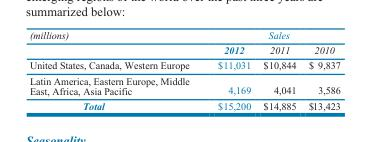table: (28, 29, 339, 111)
table column: (28, 29, 202, 111), (202, 29, 256, 111), (256, 29, 301, 111), (301, 29, 339, 111)
table column header: (28, 29, 339, 57)
table row: (28, 72, 339, 97), (28, 42, 339, 57), (28, 57, 339, 72), (28, 97, 339, 111), (28, 29, 339, 42)
table spanning cell: (28, 29, 202, 57), (202, 29, 339, 42)
